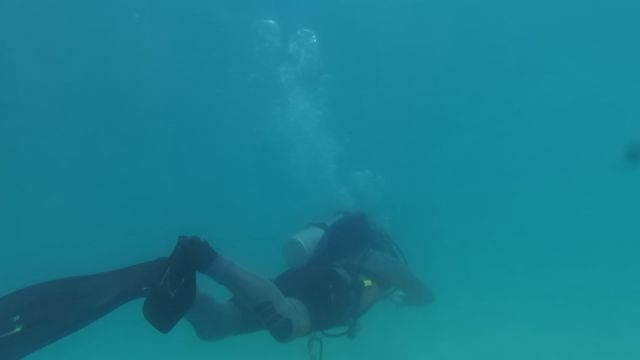Diver: (6, 194, 451, 357)
